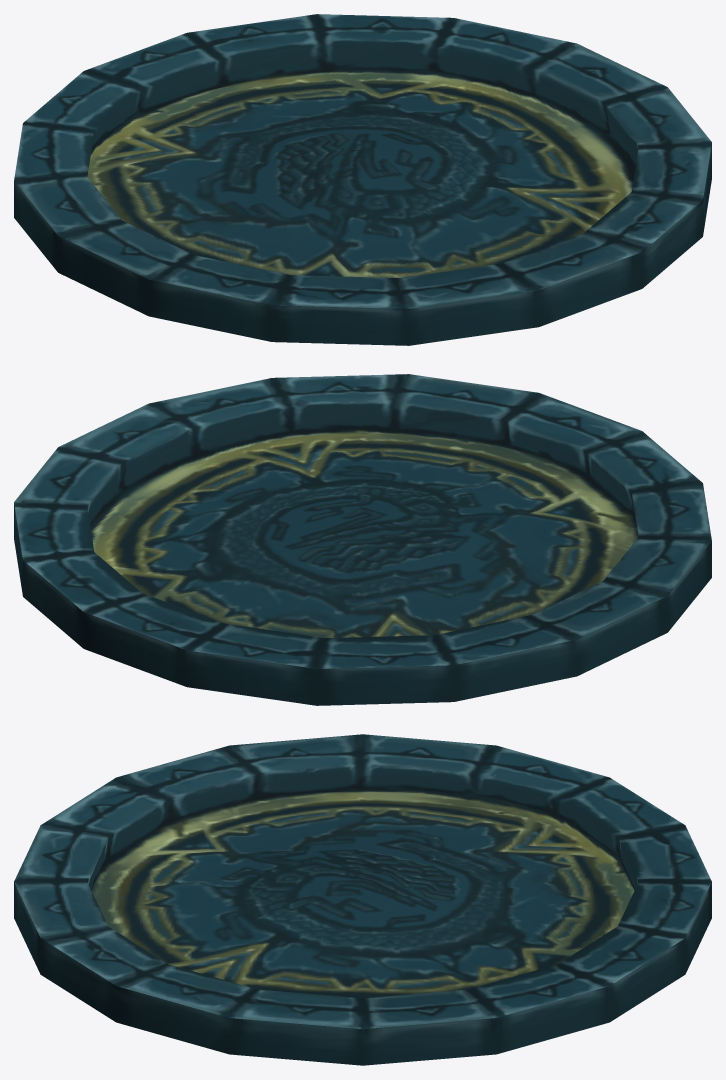
Rendered from circle02big.fbx.
3 views of the same model, one above another, from view 1: azimuth 30°, elevation 25°; view 2: azimuth 150°, elevation 25°; view 3: azimuth 270°, elevation 25° (orthographic).
Parts seen in each view (by area): view 1: pCylinder2; view 2: pCylinder2; view 3: pCylinder2.
Part boxes in pixels (bbox=[...]): pCylinder2: bbox=[14, 14, 711, 345]; pCylinder2: bbox=[14, 374, 711, 705]; pCylinder2: bbox=[14, 734, 711, 1065].
Bounding box in the file's own units: 311 × 17.92 × 311.
